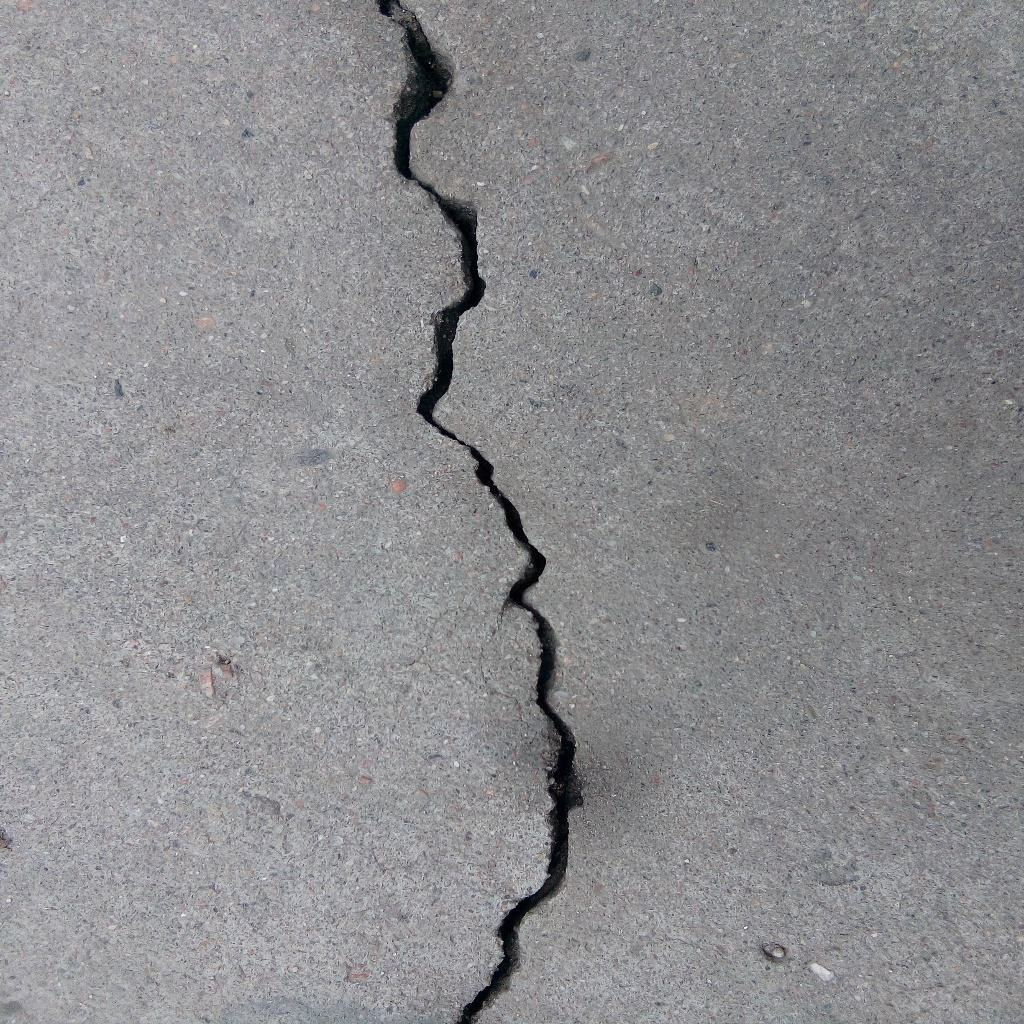Crack: (376, 1, 586, 1024)
